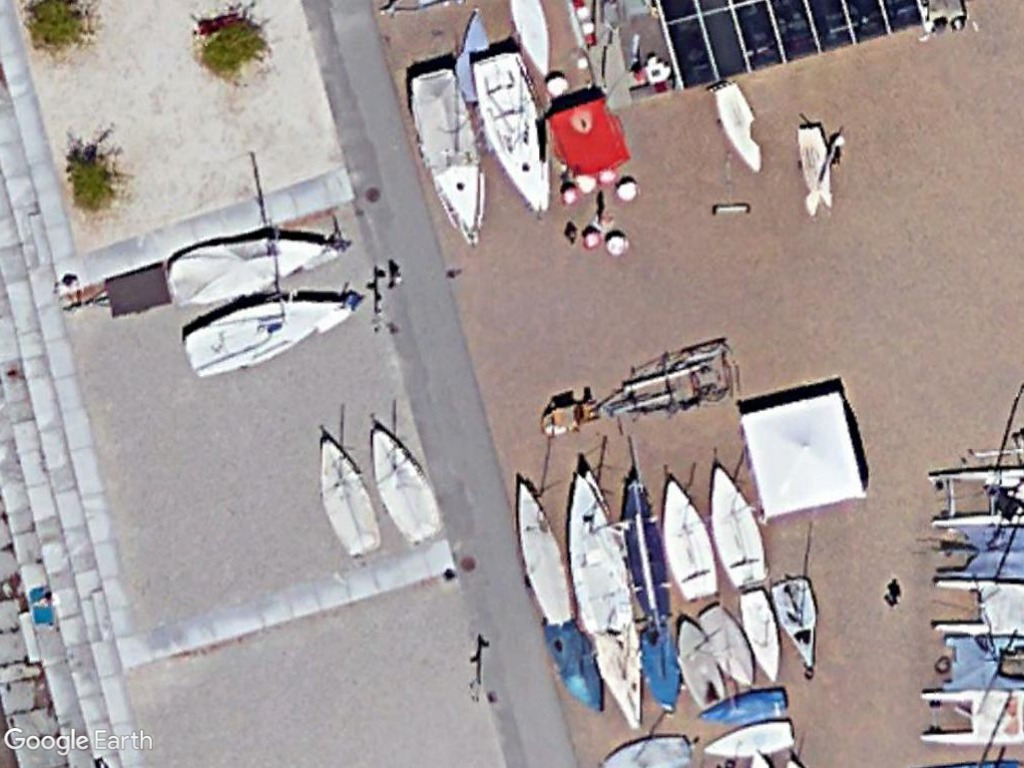boat: (553, 464, 650, 726), (180, 294, 360, 380), (164, 225, 330, 313), (471, 48, 553, 221), (407, 67, 487, 240), (363, 419, 451, 553), (509, 474, 574, 627), (313, 433, 384, 559), (706, 466, 773, 593), (660, 471, 720, 602), (729, 583, 786, 685), (692, 602, 759, 686), (768, 572, 823, 670), (696, 716, 798, 768), (695, 682, 793, 726)
